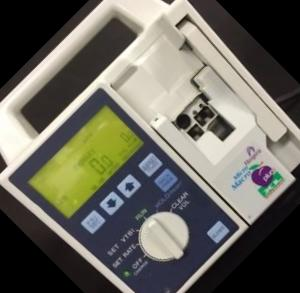plumxl1: (8, 6, 295, 279)
